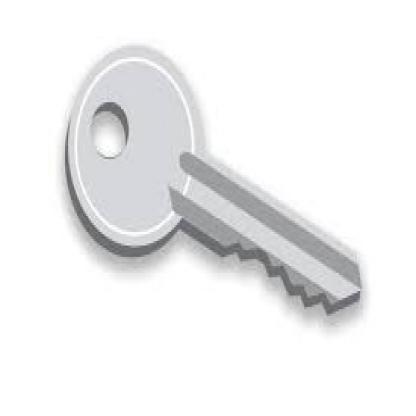key: (66, 40, 366, 328)
